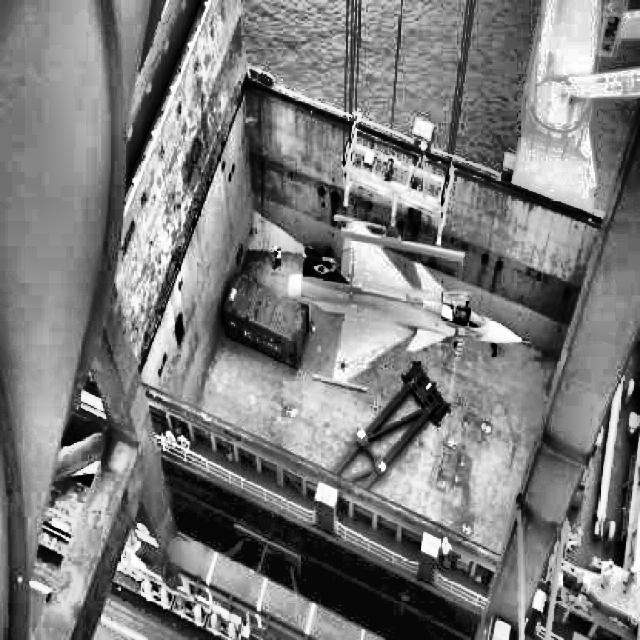JAS39: (288, 215, 530, 392)
